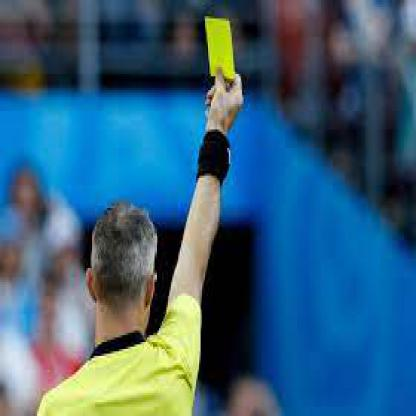foul: (178, 8, 264, 299)
